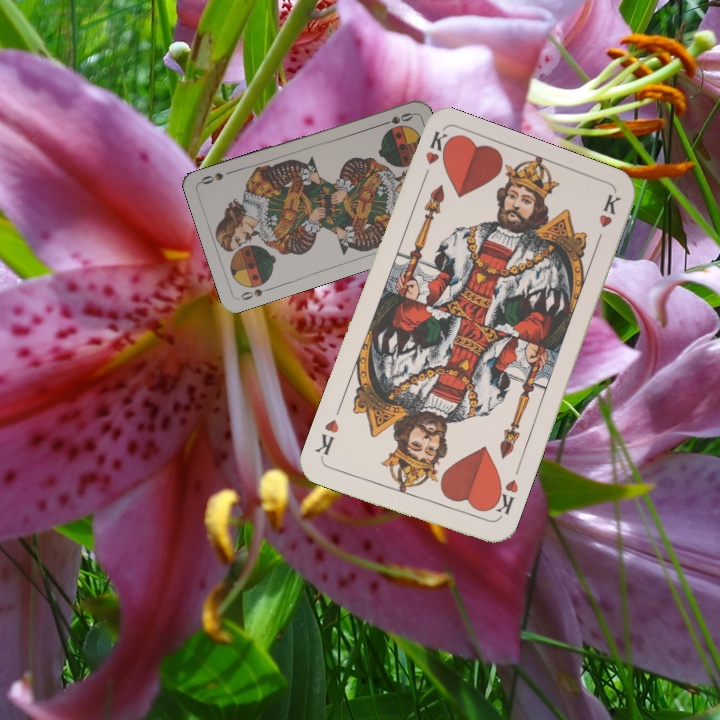HK: (417, 128, 452, 187), (486, 475, 521, 523)
SO: (376, 109, 416, 129), (236, 283, 275, 303)
